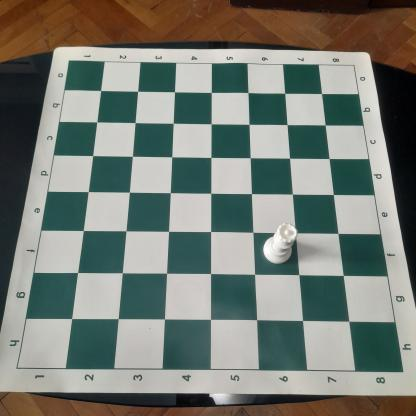white-queen: (262, 221, 299, 266)
